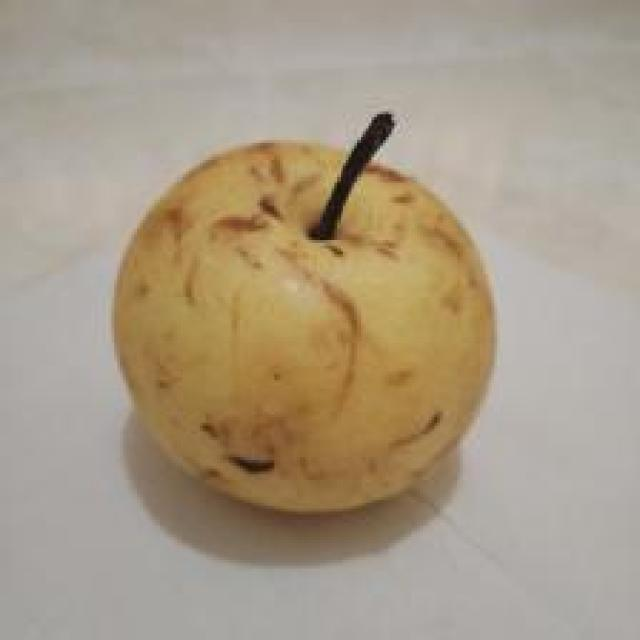rotten apple: (63, 80, 536, 588)
